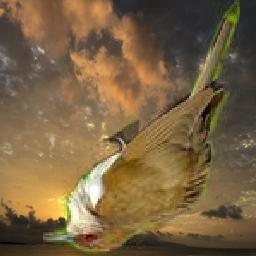Cuckoo: (44, 0, 241, 255)
